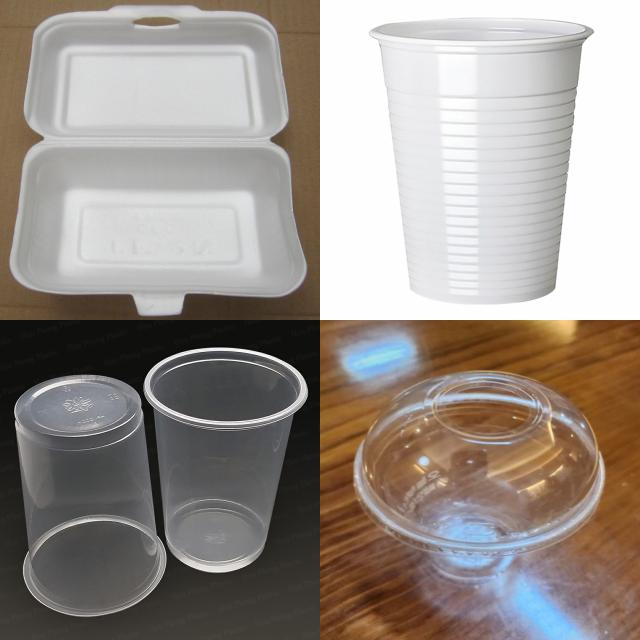Single-Use-Plastic: (10, 6, 306, 315), (370, 19, 592, 304), (355, 372, 605, 582), (144, 348, 308, 572), (15, 375, 166, 616)
